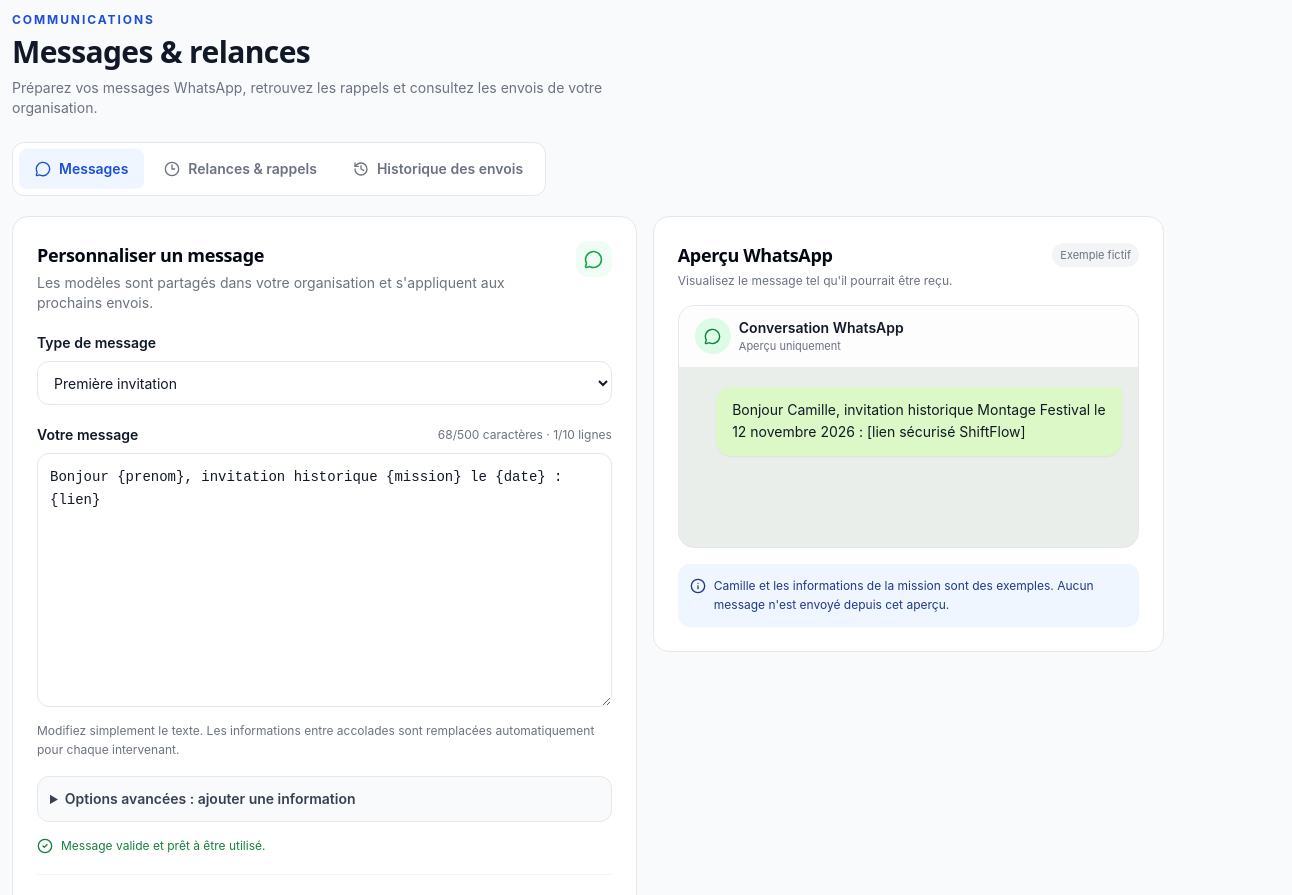
Test: the relance shortcut opens the relevant message model without sending messages
Click the tab "Relances & rappels" at (241, 169), box [148, 149, 333, 189]
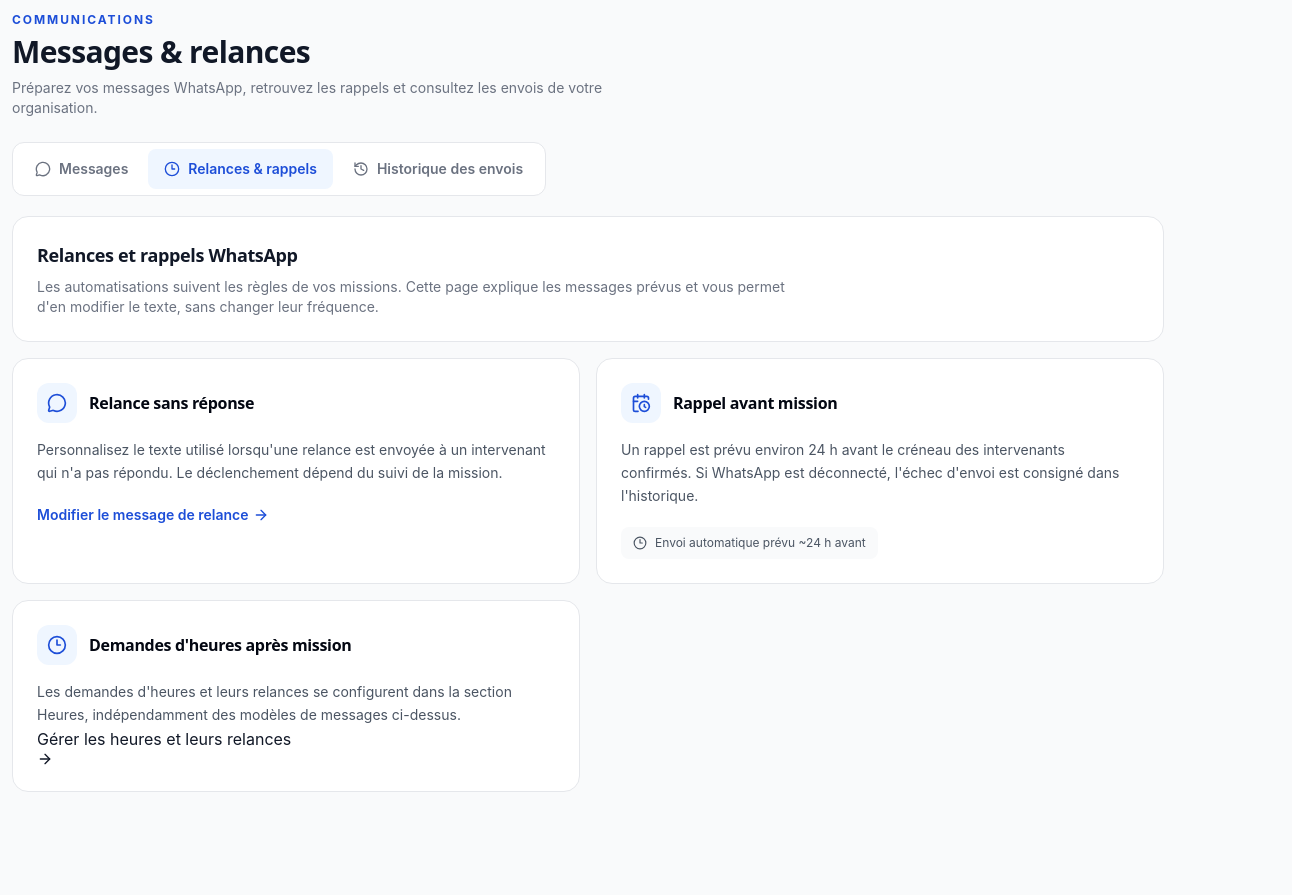
Click the button "Modifier le message de relance" at (153, 514), box [37, 504, 268, 524]
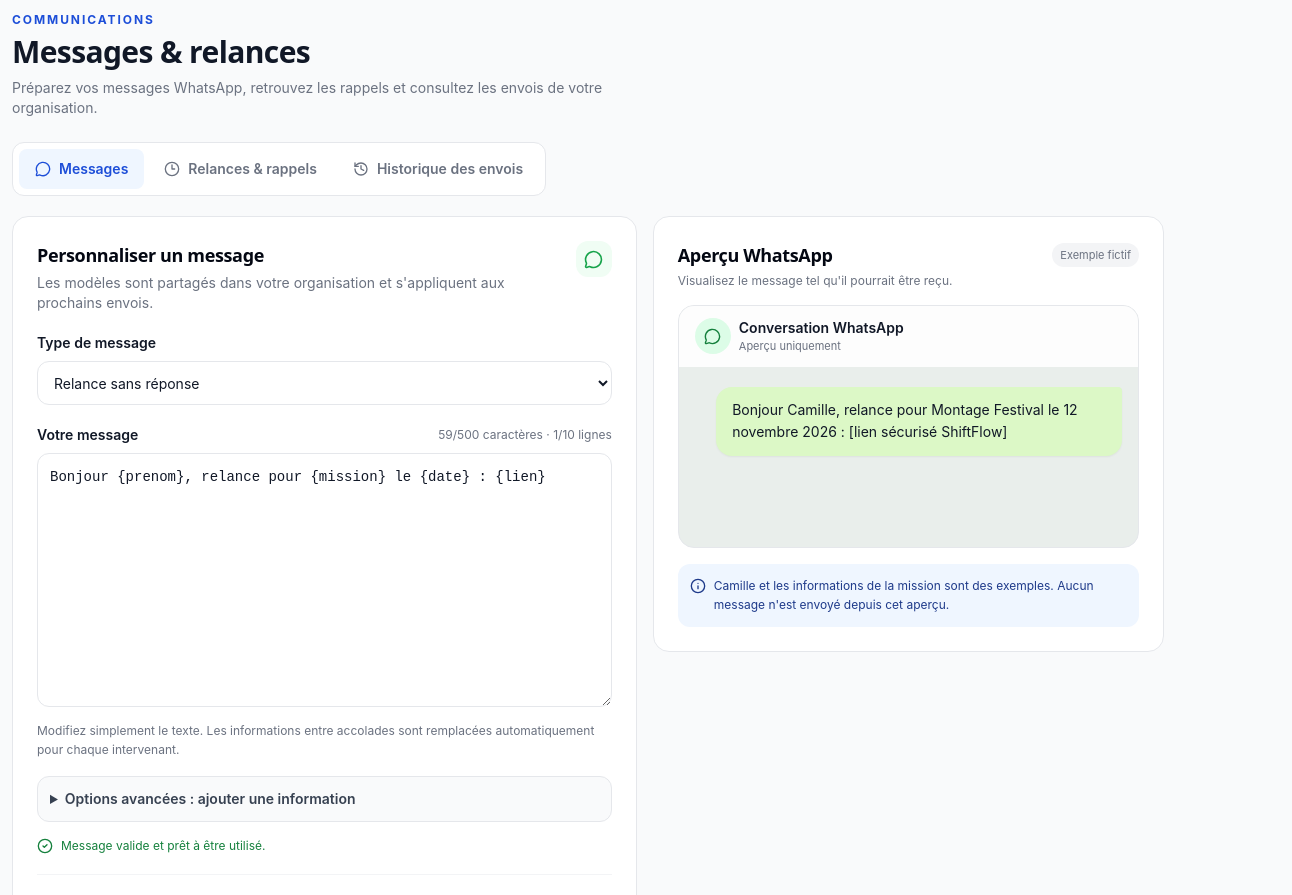
expect the dropdown named "Type de message" shows "Relance sans réponse": met, box [37, 361, 612, 405]
expect the text box labelled "Votre message" holds "Bonjour {prenom}, relance pour {mission} le {date} : {lien}": met, box [37, 453, 612, 706]
